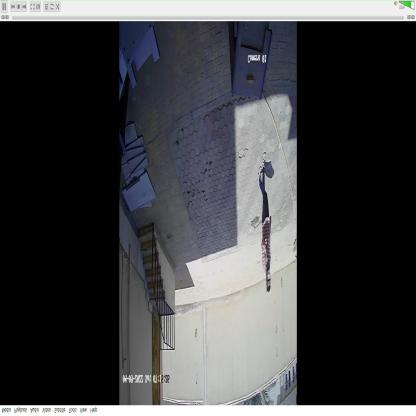handgun: (264, 240, 269, 297)
